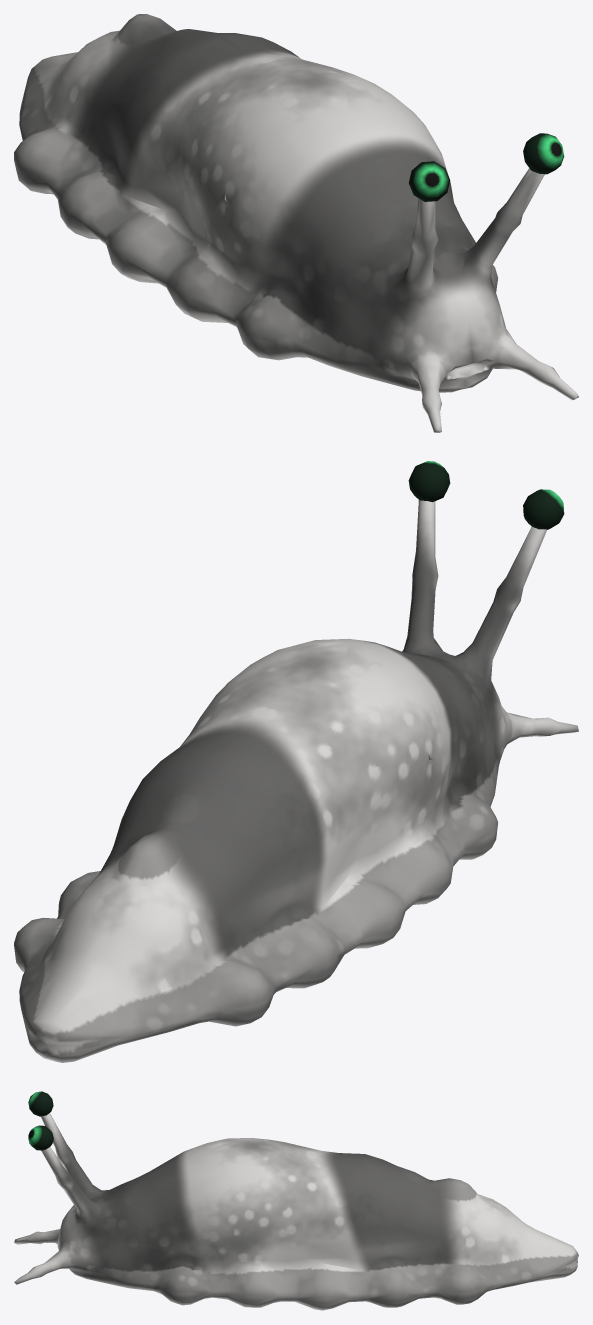
Rendered from BilateralNoLegs.fbx.
3 views of the same model, one above another, from view 1: azimuth 30°, elevation 25°; view 2: azimuth 150°, elevation 25°; view 3: azimuth 270°, elevation 25° (orthographic). The views are drawn at different scales.
Parts seen in each view (by area): view 1: BilateralNoLegs; view 2: BilateralNoLegs; view 3: BilateralNoLegs.
Boxes of the visible parts, box(x1,y1,x2,y2) form: BilateralNoLegs: box(14, 14, 578, 432); BilateralNoLegs: box(14, 461, 578, 1062); BilateralNoLegs: box(14, 1091, 578, 1310).
Bounding box in the file's own units: 0.3511 × 0.3213 × 1.
2 materials, 2 textured.
